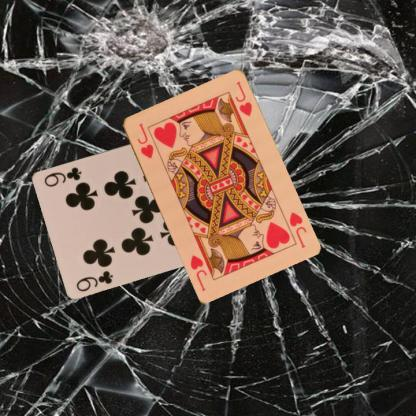9c: (74, 268, 115, 292)
Jh: (278, 209, 308, 249), (134, 120, 155, 160)
